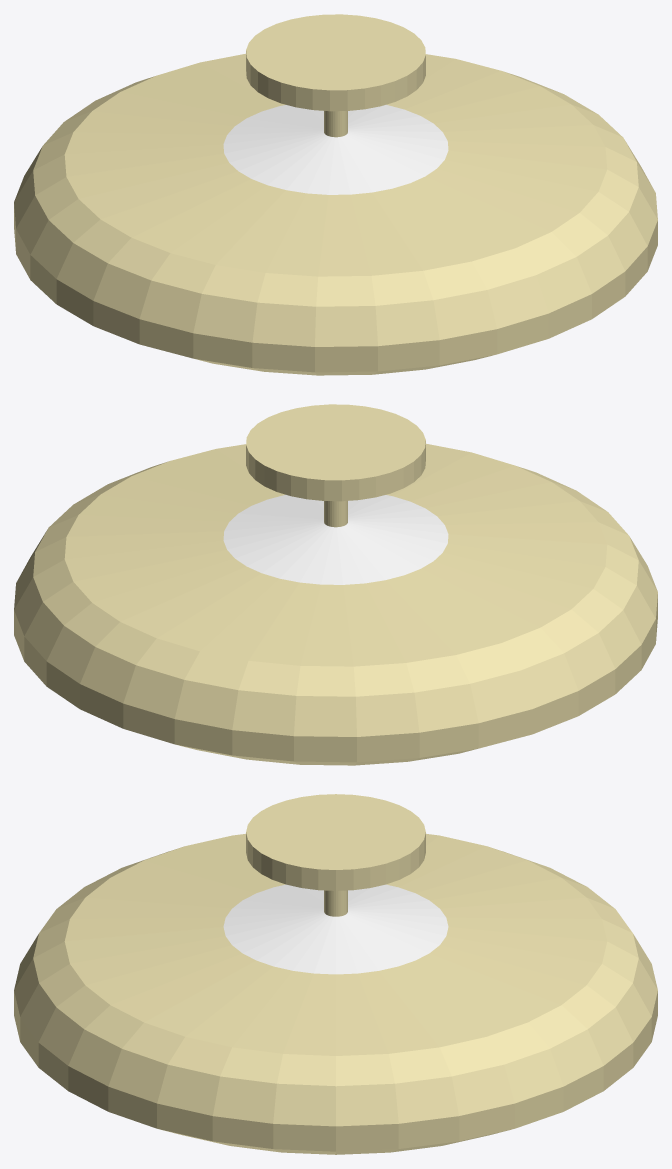
The model's file is lampara-techo(1).fbx.
3 renders of one model, top to bottom at view 1: azimuth 30°, elevation 25°; view 2: azimuth 150°, elevation 25°; view 3: azimuth 270°, elevation 25°, orthographic.
Parts seen in each view (by area): view 1: lampara-techo; view 2: lampara-techo; view 3: lampara-techo.
Part boxes in pixels (x1=…): lampara-techo: x1=14, y1=14, x2=657, y2=375; lampara-techo: x1=14, y1=404, x2=657, y2=765; lampara-techo: x1=14, y1=794, x2=657, y2=1154.
Bounding box in the file's own units: 849 × 321 × 849.
1 material, 1 textured.
